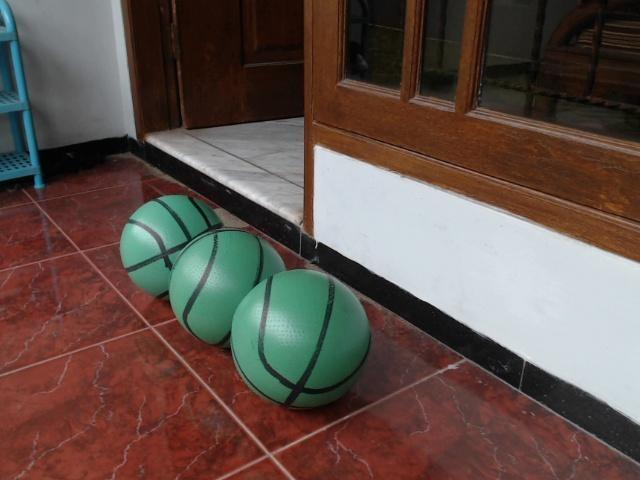Sports-Ball: (233, 276, 372, 416), (174, 231, 292, 366), (118, 192, 228, 314)
